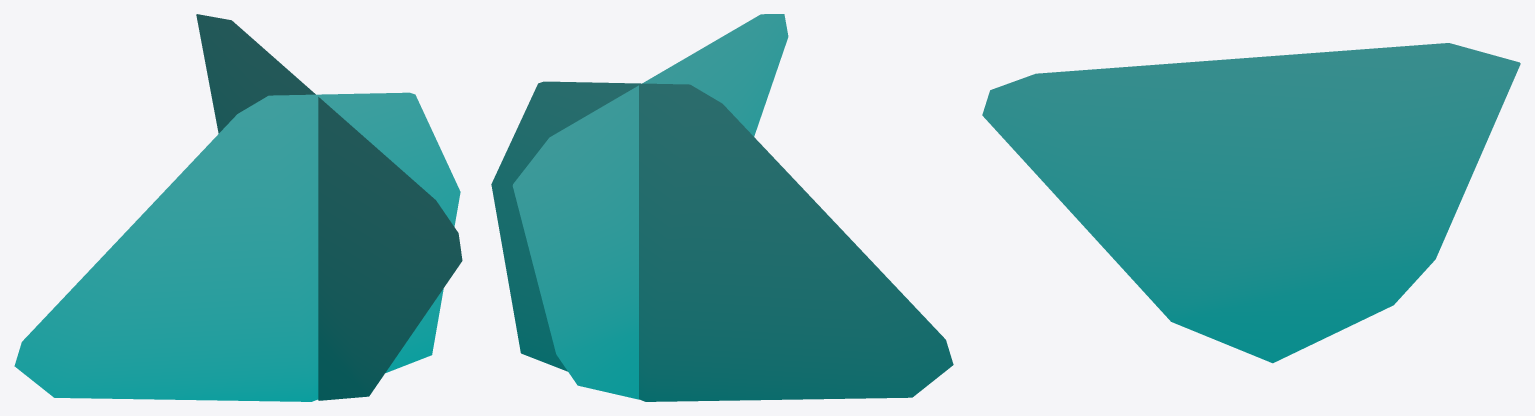
The model's file is Raspberry_wf0oefeja_High_wf0oefeja_VarE_LOD3.fbx.
3 views of the same model, side by side, from view 1: azimuth 30°, elevation 25°; view 2: azimuth 150°, elevation 25°; view 3: azimuth 270°, elevation 25° (orthographic). The views are drawn at different scales.
Parts seen in each view (by area): view 1: _f4lr_VarE_LOD4; view 2: _f4lr_VarE_LOD4; view 3: _f4lr_VarE_LOD4.
Part boxes in pixels (x1,y1,x2,y2): _f4lr_VarE_LOD4: (14,14,462,401); _f4lr_VarE_LOD4: (491,14,953,401); _f4lr_VarE_LOD4: (982,43,1520,363).
Size of the model in its own units: 114 by 77.68 by 118.
